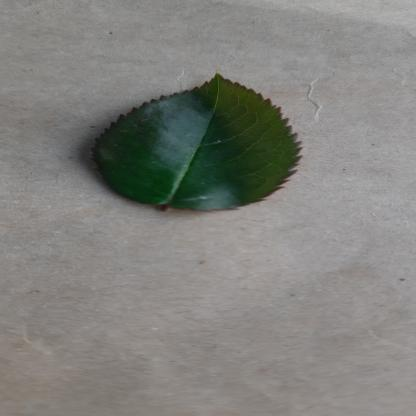normal: (81, 73, 311, 210)
